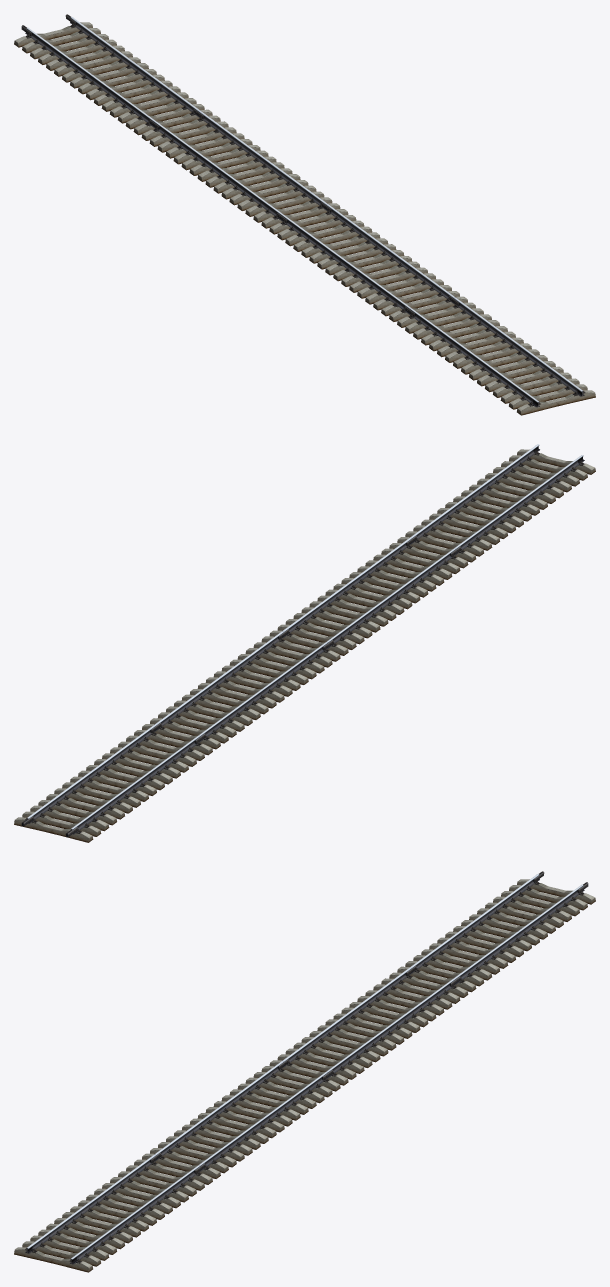
The model's file is rail.obj.
The picture shows the model from 3 angles, top to bottom: view 1: azimuth 30°, elevation 25°; view 2: azimuth 150°, elevation 25°; view 3: azimuth 330°, elevation 25°; orthographic projection.
Visible parts, largest first — view 1: sleepers_concrete, rails, reil_surface_knurling; view 2: sleepers_concrete, rails, reil_surface_knurling; view 3: sleepers_concrete, rails, reil_surface_knurling.
Part boxes in pixels (left/top/right/bottom): sleepers_concrete: left=14, top=22, right=595, bottom=415; rails: left=21, top=14, right=584, bottom=407; reil_surface_knurling: left=26, top=17, right=582, bottom=402; sleepers_concrete: left=14, top=449, right=595, bottom=842; rails: left=21, top=446, right=584, bottom=837; reil_surface_knurling: left=27, top=444, right=583, bottom=829; sleepers_concrete: left=14, top=879, right=595, bottom=1272; rails: left=25, top=871, right=588, bottom=1264; reil_surface_knurling: left=27, top=874, right=583, bottom=1259.
Bounding box in the file's own units: 2700 × 397 × 32314.
